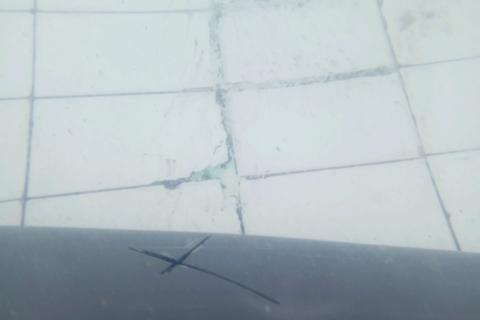keretakan: (126, 234, 282, 311)
